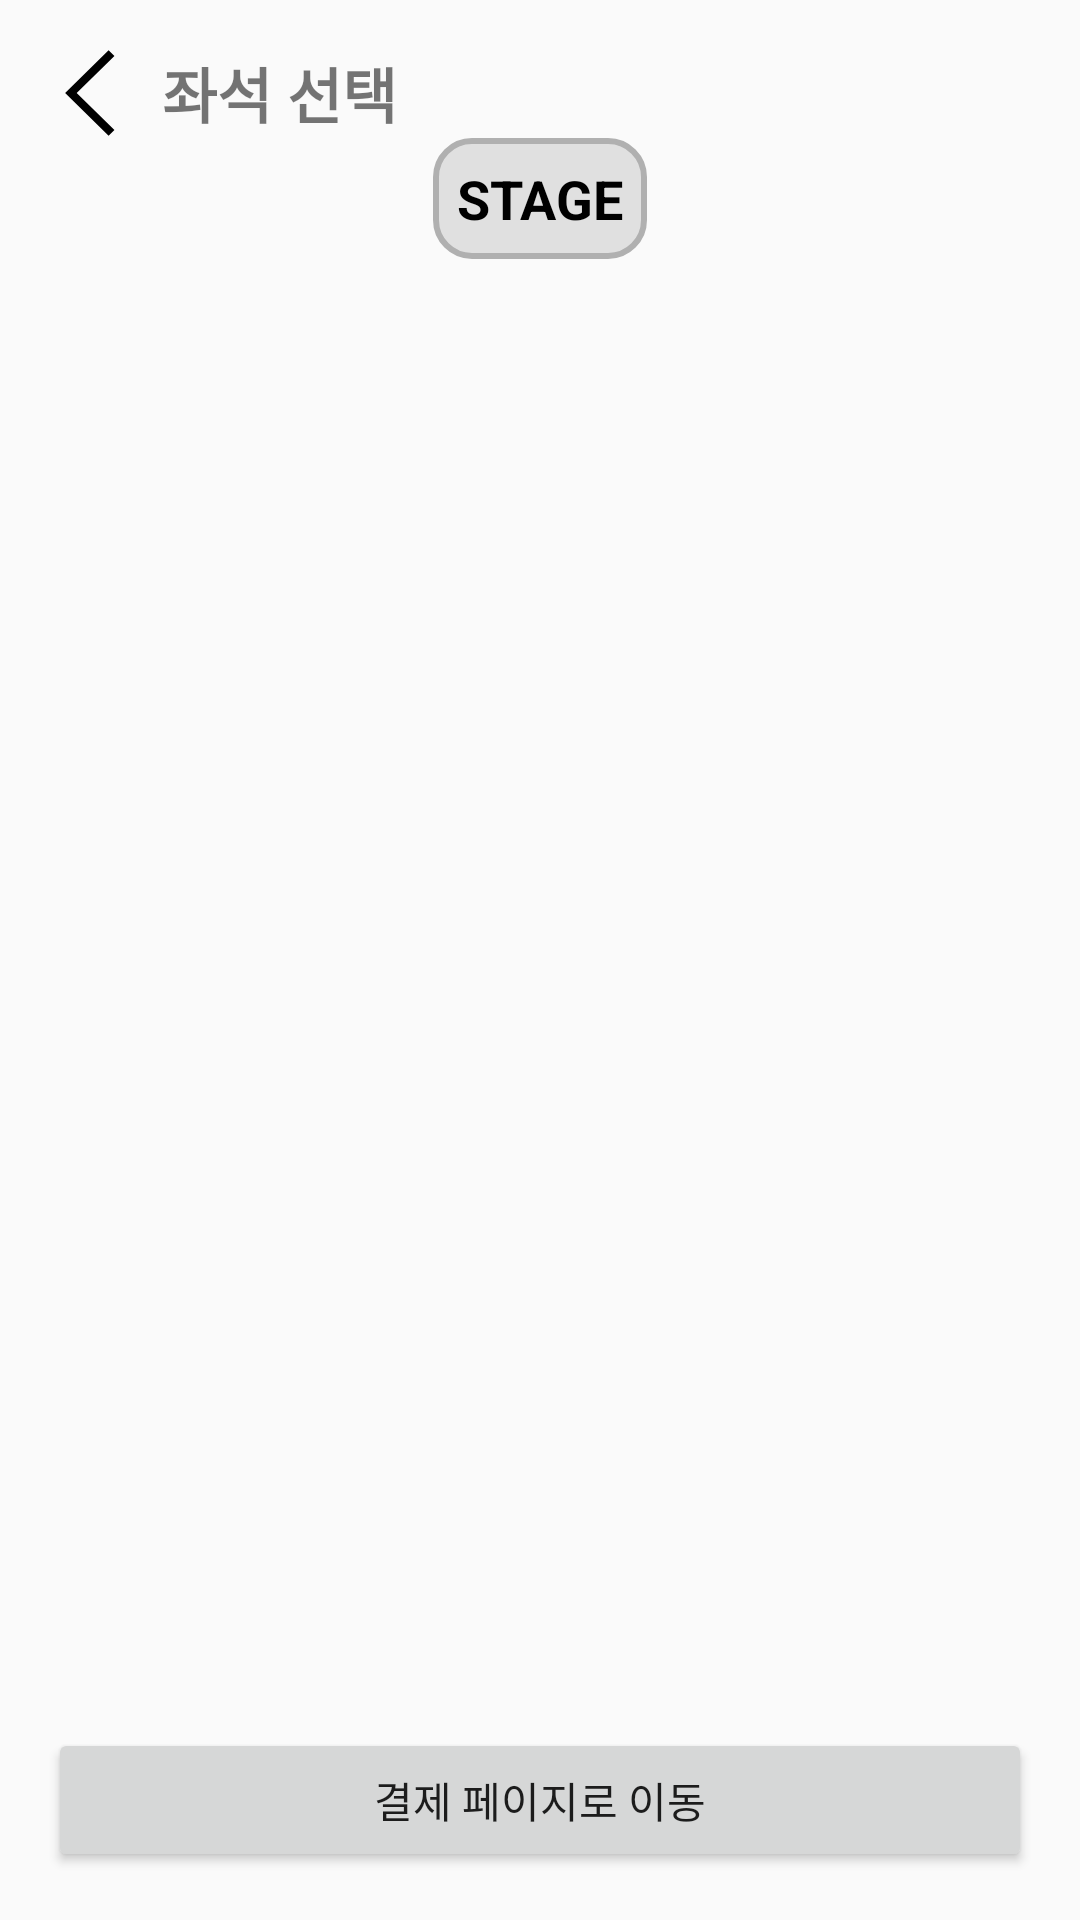

Screen size 1080×1920. Icon name, then its box in pixels as box(x1, y1, x2, y2):
뒤로가기: box(65, 50, 114, 136)
